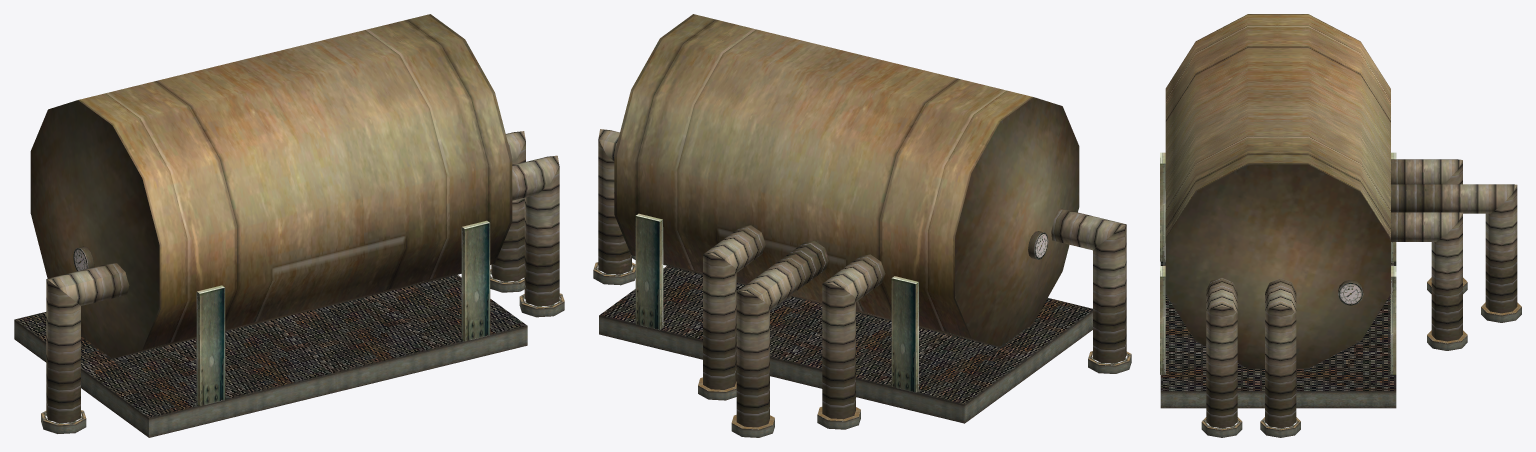
File: fuel_container_med.fbx
The picture shows the model from 3 angles, left to right: view 1: azimuth 30°, elevation 25°; view 2: azimuth 150°, elevation 25°; view 3: azimuth 270°, elevation 25°; orthographic projection. The views are drawn at different scales.
Visible parts, largest first — view 1: mesh_0, mesh_2, mesh_1; view 2: mesh_0, mesh_1, mesh_2; view 3: mesh_0, mesh_1, mesh_2.
Part boxes in pixels (left/top/right/bottom): mesh_0: left=14, top=14, right=564, bottom=437; mesh_2: left=14, top=274, right=527, bottom=418; mesh_1: left=30, top=100, right=159, bottom=358; mesh_0: left=593, top=14, right=1131, bottom=437; mesh_1: left=955, top=97, right=1079, bottom=346; mesh_2: left=599, top=266, right=1092, bottom=404; mesh_0: left=1160, top=14, right=1521, bottom=437; mesh_1: left=1165, top=164, right=1390, bottom=368; mesh_2: left=1160, top=261, right=1396, bottom=390.
Size of the model in its own units: 353 by 177 by 244.
Materials: 3 (3 with a texture image).
